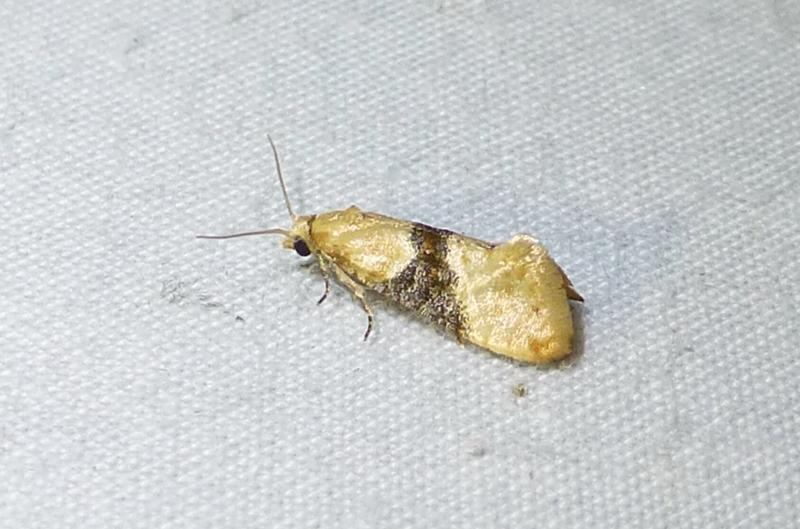Eupoecilia Ambiguella: (194, 130, 588, 370)
